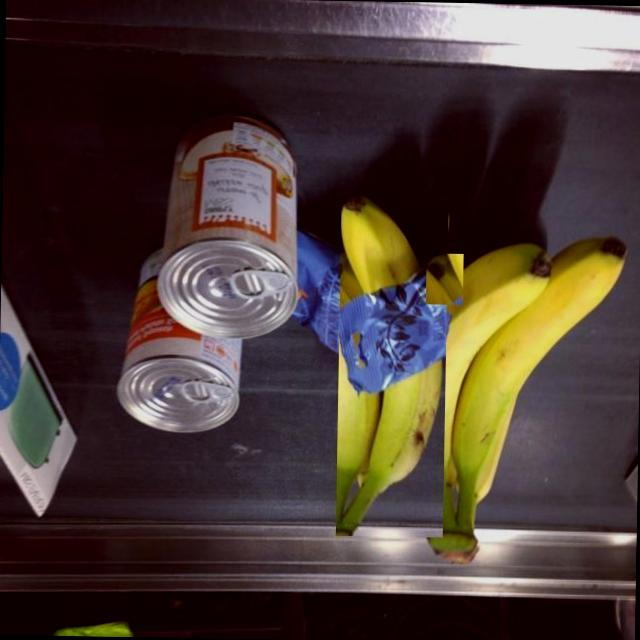Banana: (424, 236, 624, 563), (335, 195, 448, 538)
